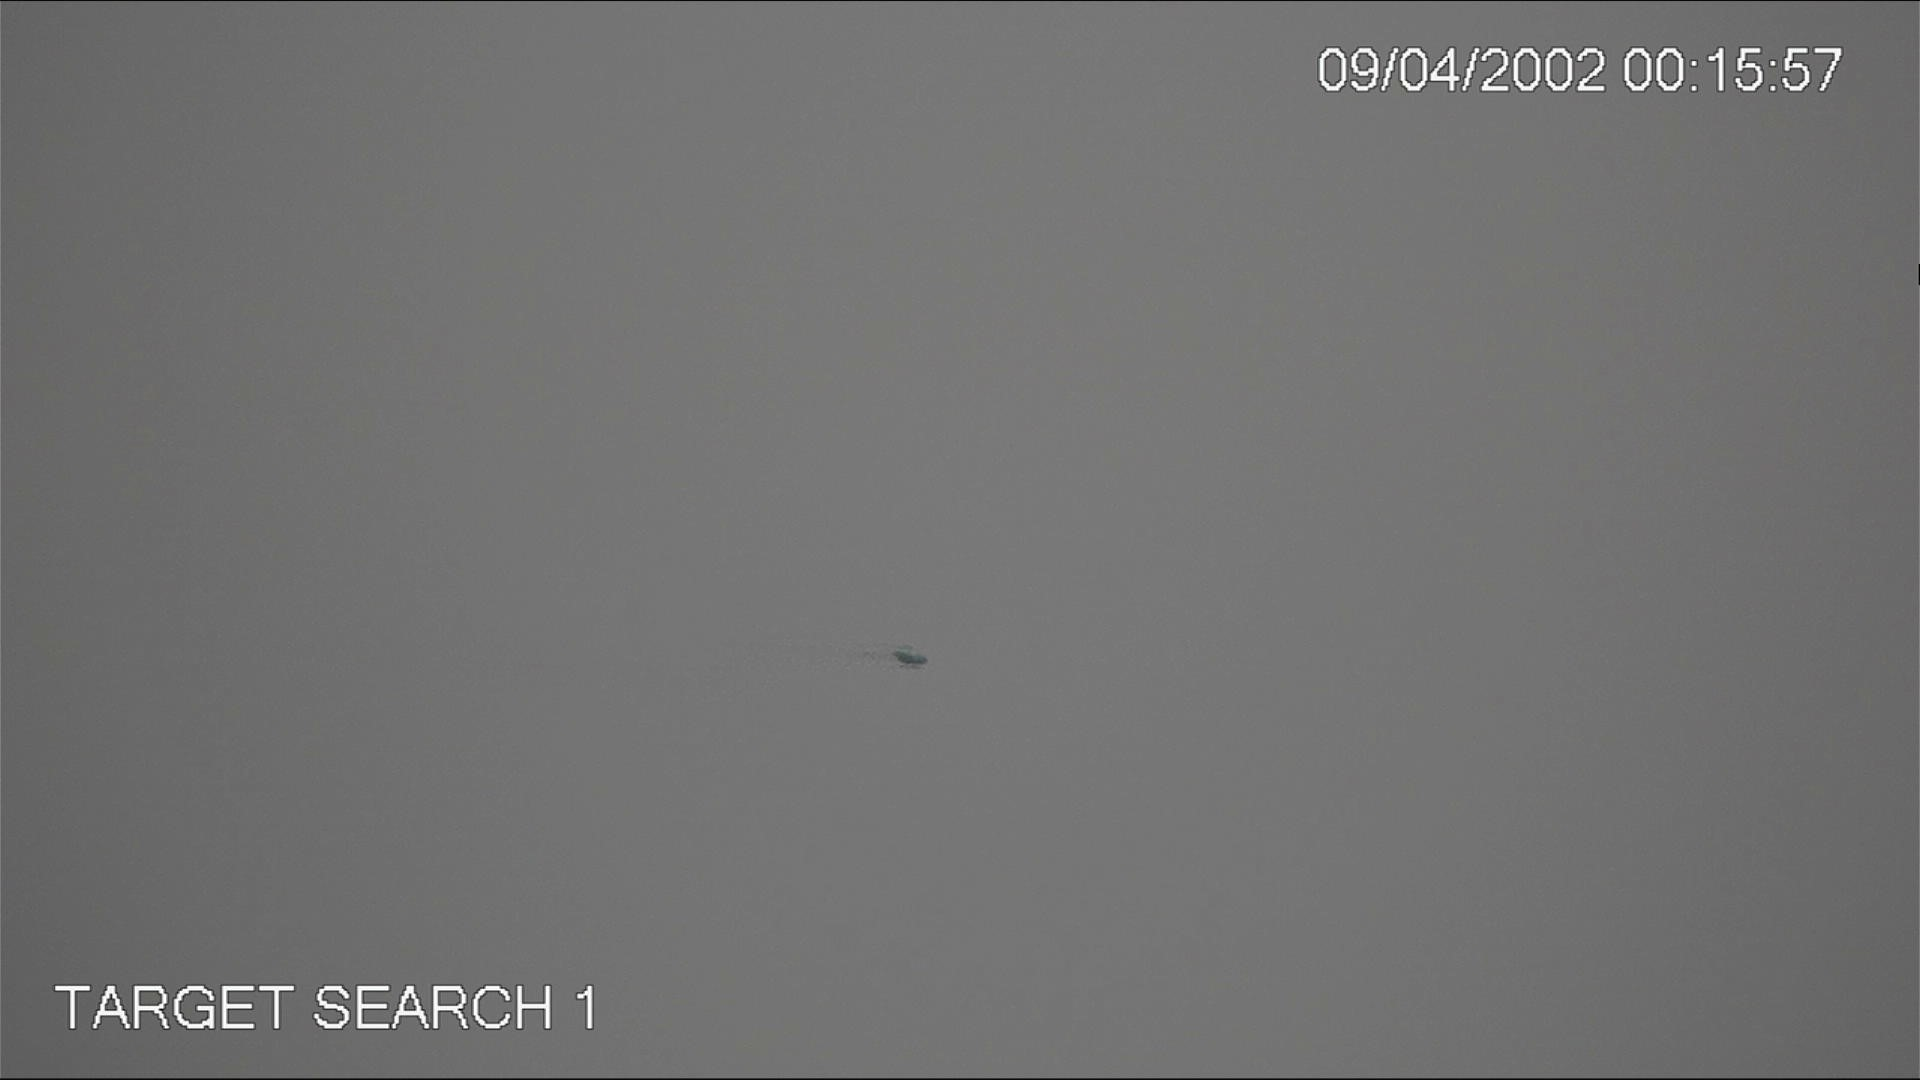SU_30: (891, 645, 928, 670)
